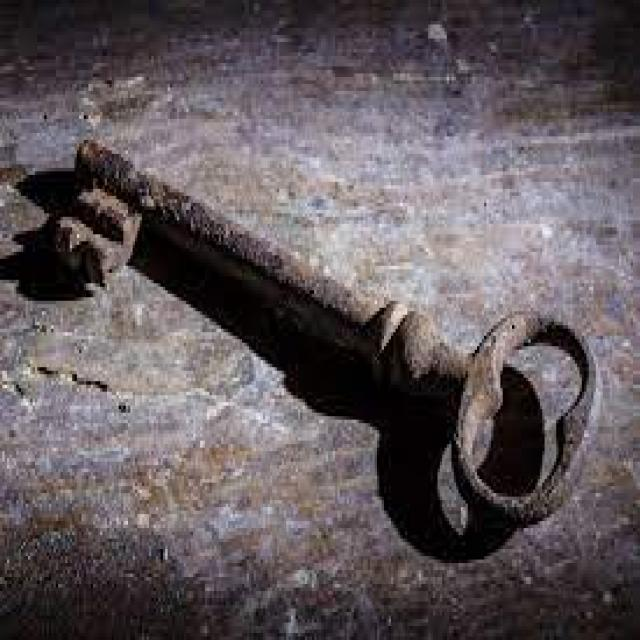key: (39, 92, 620, 559)
